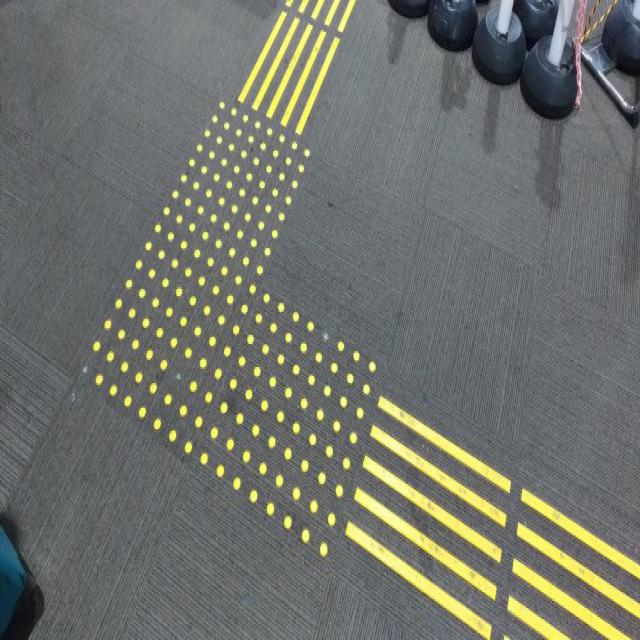tactile-guide-path: (84, 101, 375, 555), (343, 393, 639, 639), (235, 0, 357, 134)
